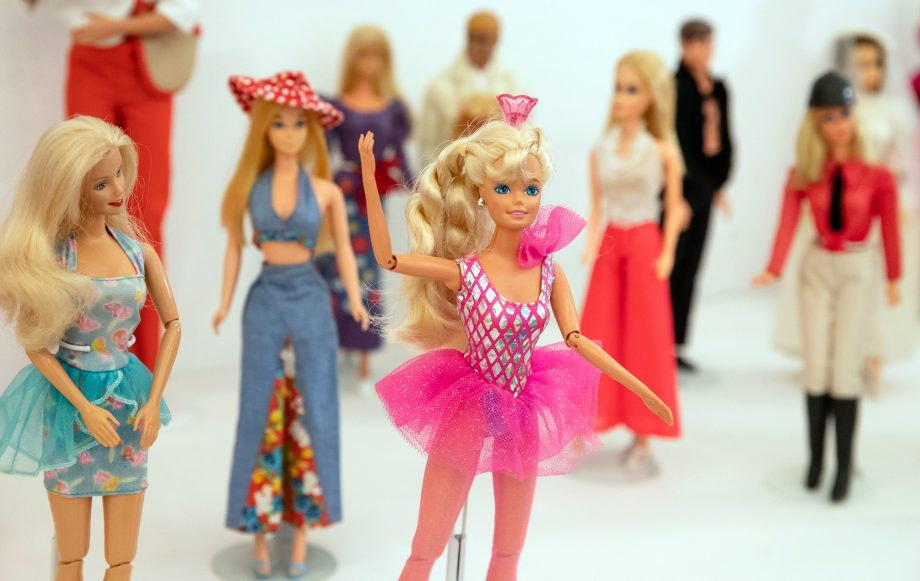toy: (200, 66, 642, 581)
